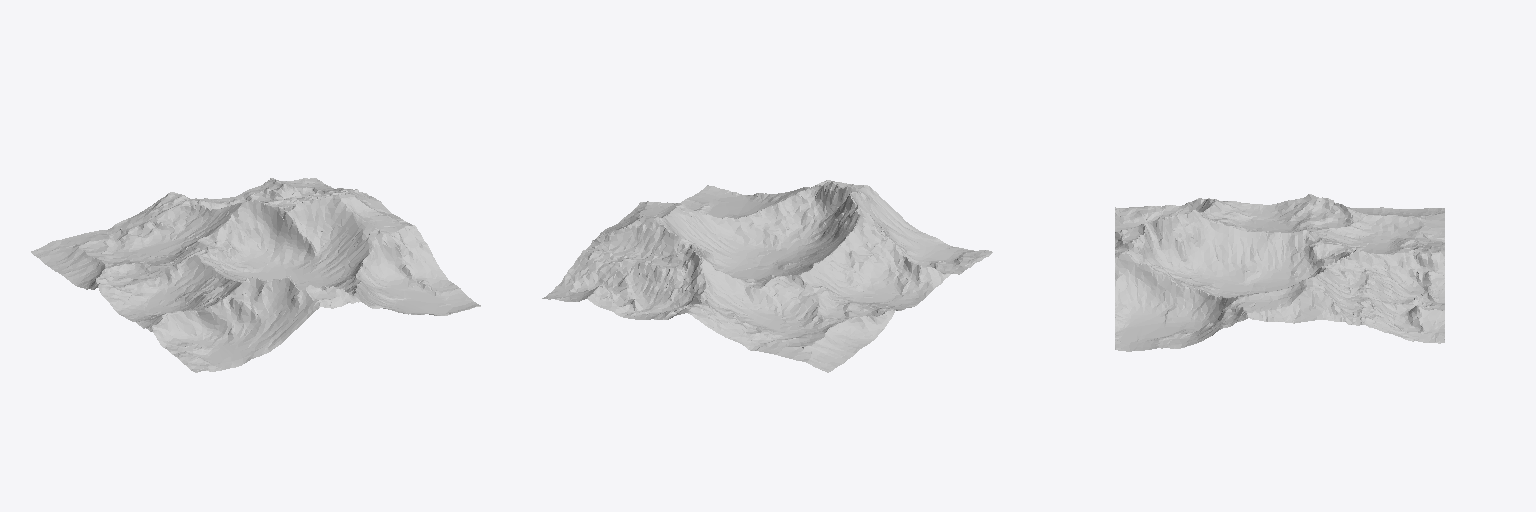
File: terrain1.obj
The picture shows the model from 3 angles: view 1: azimuth 30°, elevation 25°; view 2: azimuth 150°, elevation 25°; view 3: azimuth 270°, elevation 25°; orthographic projection.
Bounding box in the file's own units: 1000 × 177 × 1000.